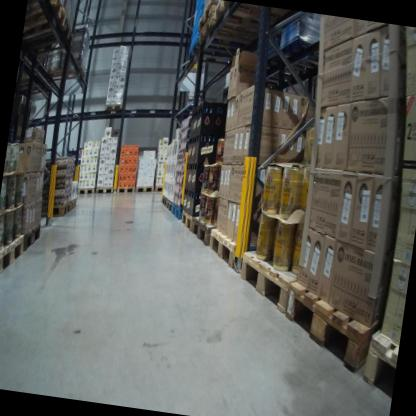pallet: (275, 269, 381, 383), (233, 240, 305, 321), (357, 318, 401, 399), (213, 2, 301, 41), (21, 10, 77, 67), (199, 15, 271, 58), (204, 222, 251, 275), (187, 40, 251, 74), (24, 0, 71, 42), (189, 206, 228, 248), (0, 226, 28, 284), (18, 61, 54, 102), (47, 56, 89, 91), (196, 0, 231, 40), (17, 218, 45, 262), (178, 204, 207, 236), (39, 196, 72, 222), (134, 179, 167, 197), (93, 182, 119, 200), (75, 180, 96, 200), (104, 100, 123, 118), (170, 202, 186, 223), (114, 182, 136, 197), (166, 192, 175, 212), (68, 194, 78, 211), (158, 193, 168, 209)
